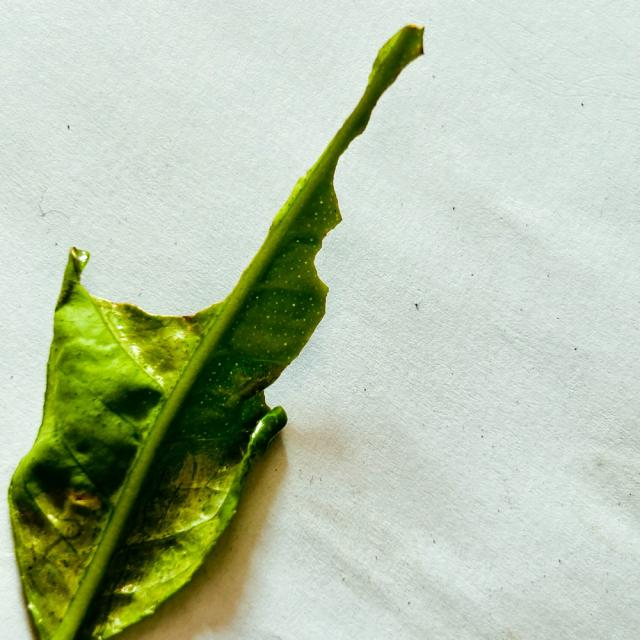Deficiency Leaf: (75, 186, 261, 314), (316, 223, 351, 289), (265, 361, 298, 408)
Lemon: (9, 26, 422, 639)
